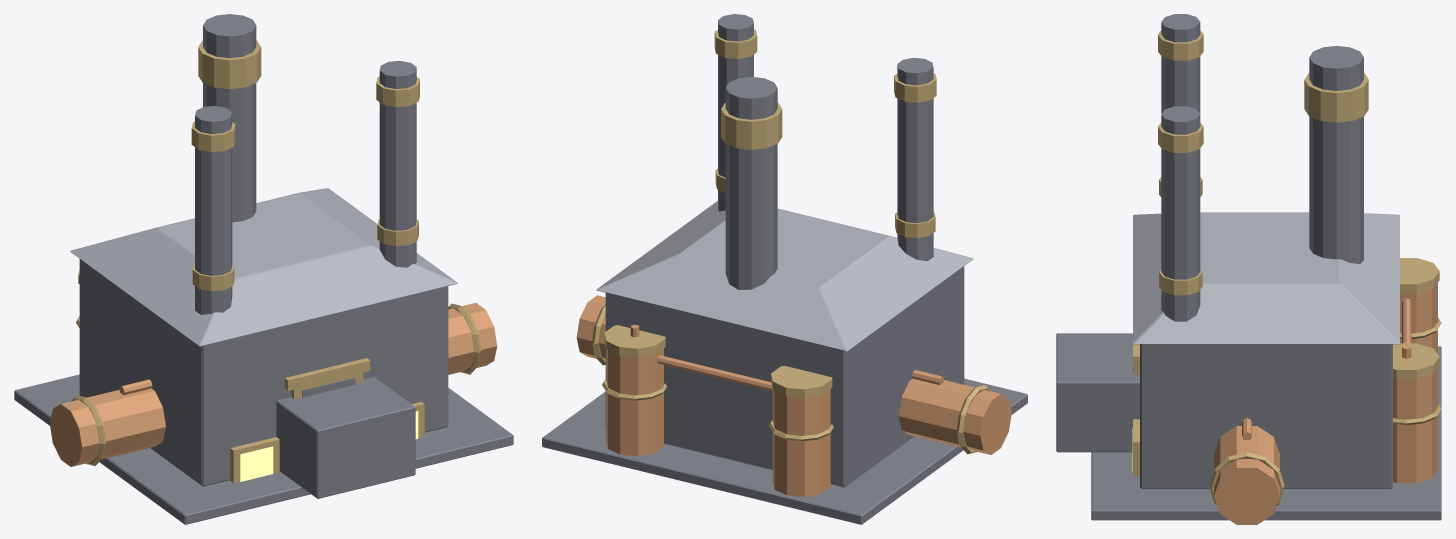
The model's file is gearforge_boiler_works.glb.
3 views of the same model, side by side, from view 1: azimuth 30°, elevation 25°; view 2: azimuth 150°, elevation 25°; view 3: azimuth 270°, elevation 25° (orthographic). The views are drawn at different scales.
Visible parts, largest first — view 1: gearforge_boiler_works_dark_iron_lod0, gearforge_boiler_works_steel_lod0, gearforge_boiler_works_brass_lod0, gearforge_boiler_works_copper_lod0, gearforge_boiler_works_furnace_glow_lod0; view 2: gearforge_boiler_works_dark_iron_lod0, gearforge_boiler_works_steel_lod0, gearforge_boiler_works_copper_lod0, gearforge_boiler_works_brass_lod0; view 3: gearforge_boiler_works_dark_iron_lod0, gearforge_boiler_works_steel_lod0, gearforge_boiler_works_copper_lod0, gearforge_boiler_works_brass_lod0.
Part boxes in pixels (x1=…): gearforge_boiler_works_dark_iron_lod0: x1=14, y1=14, x2=513, y2=524; gearforge_boiler_works_steel_lod0: x1=70, y1=188, x2=457, y2=346; gearforge_boiler_works_brass_lod0: x1=71, y1=40, x2=481, y2=483; gearforge_boiler_works_copper_lod0: x1=49, y1=303, x2=497, y2=466; gearforge_boiler_works_furnace_glow_lod0: x1=240, y1=411, x2=418, y2=481; gearforge_boiler_works_dark_iron_lod0: x1=542, y1=14, x2=1027, y2=524; gearforge_boiler_works_steel_lod0: x1=596, y1=201, x2=973, y2=351; gearforge_boiler_works_copper_lod0: x1=576, y1=295, x2=1011, y2=496; gearforge_boiler_works_brass_lod0: x1=592, y1=29, x2=991, y2=454; gearforge_boiler_works_dark_iron_lod0: x1=1056, y1=14, x2=1441, y2=520; gearforge_boiler_works_steel_lod0: x1=1133, y1=212, x2=1399, y2=344; gearforge_boiler_works_copper_lod0: x1=1214, y1=283, x2=1437, y2=524; gearforge_boiler_works_brass_lod0: x1=1133, y1=30, x2=1441, y2=505.
Bounding box in the file's own units: 12.6 × 10.8 × 9.9.
